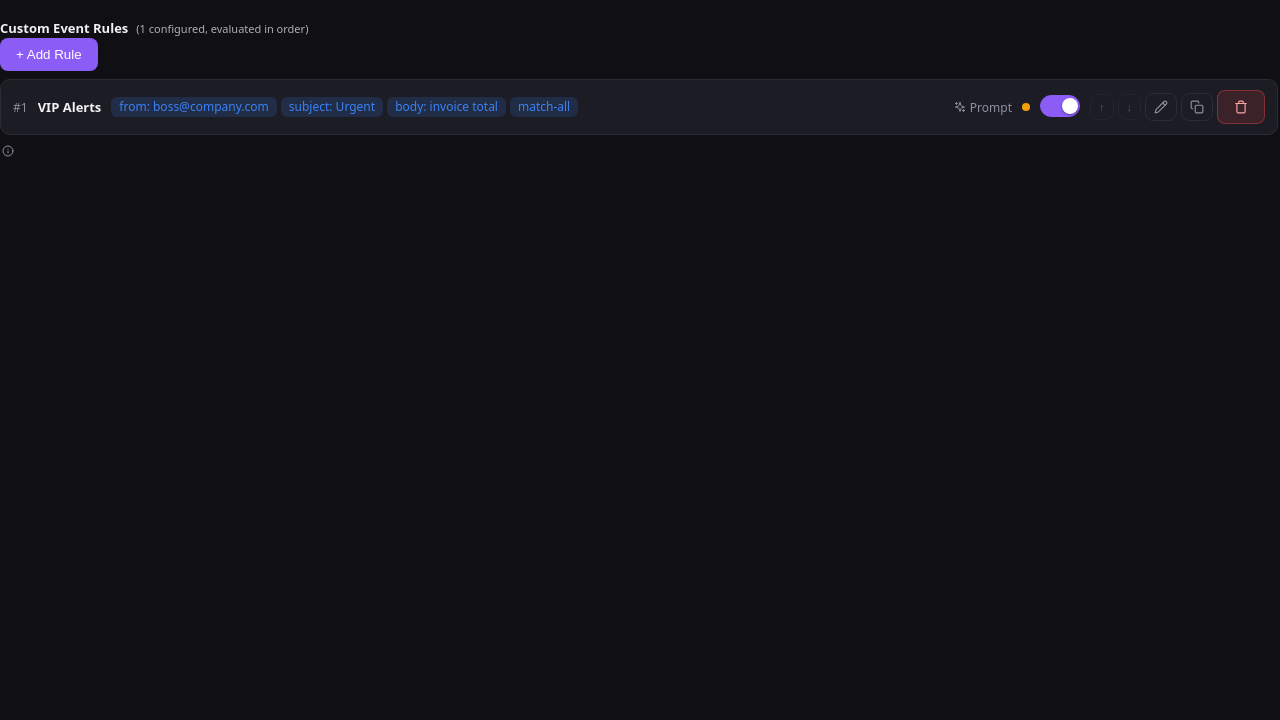
Test: EventRuleBuilder editor modal › blocks saving an empty prompt with a validation error
Click the button named "edit vip alerts" at (1161, 107), box [1145,93,1177,121]
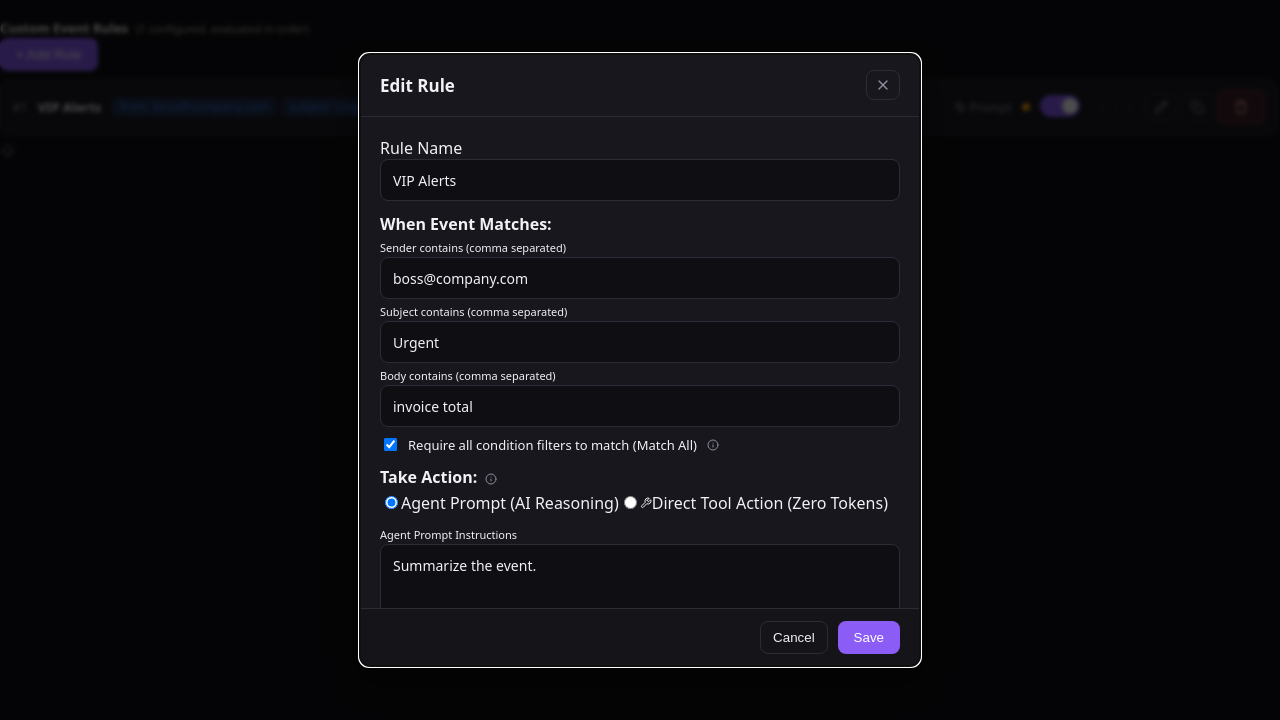
Now the heading "Edit Rule" is shown, box [380,74,455,96]
Clear the text box labelled "Agent Prompt Instructions" at (640, 584), box [380,544,900,624]
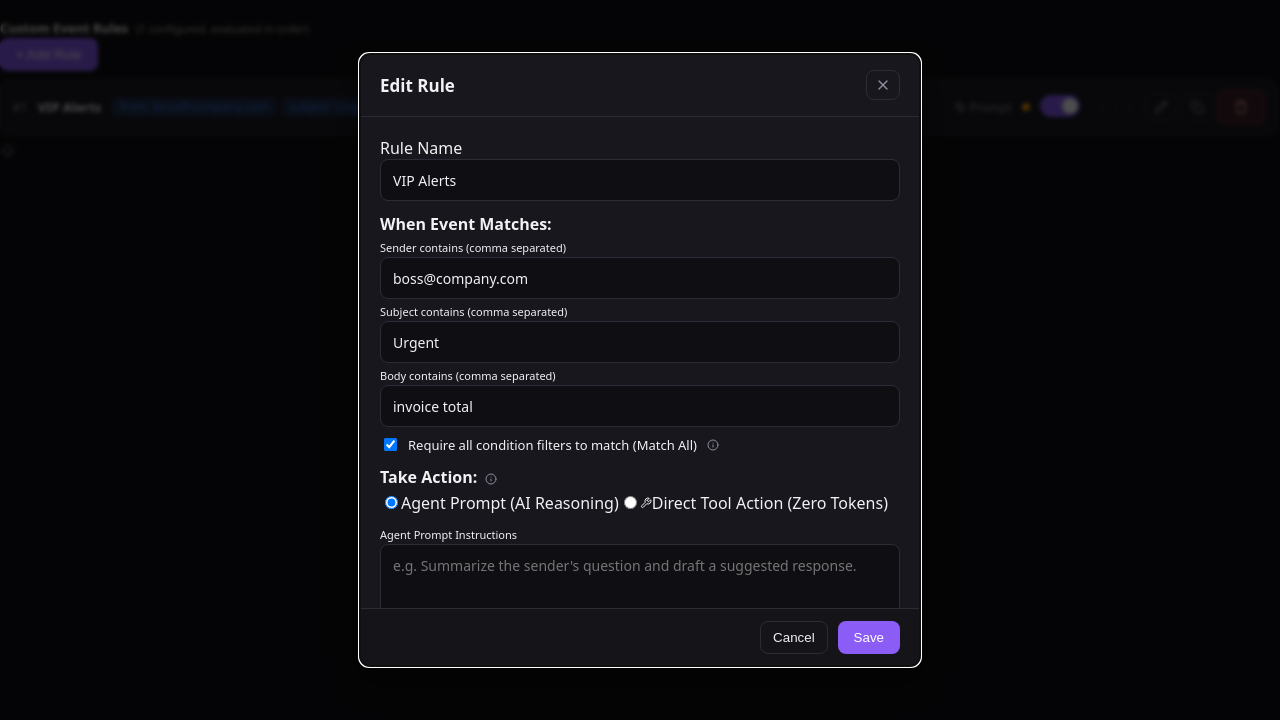
Click the button "Save" at (869, 638), box [838,621,900,654]
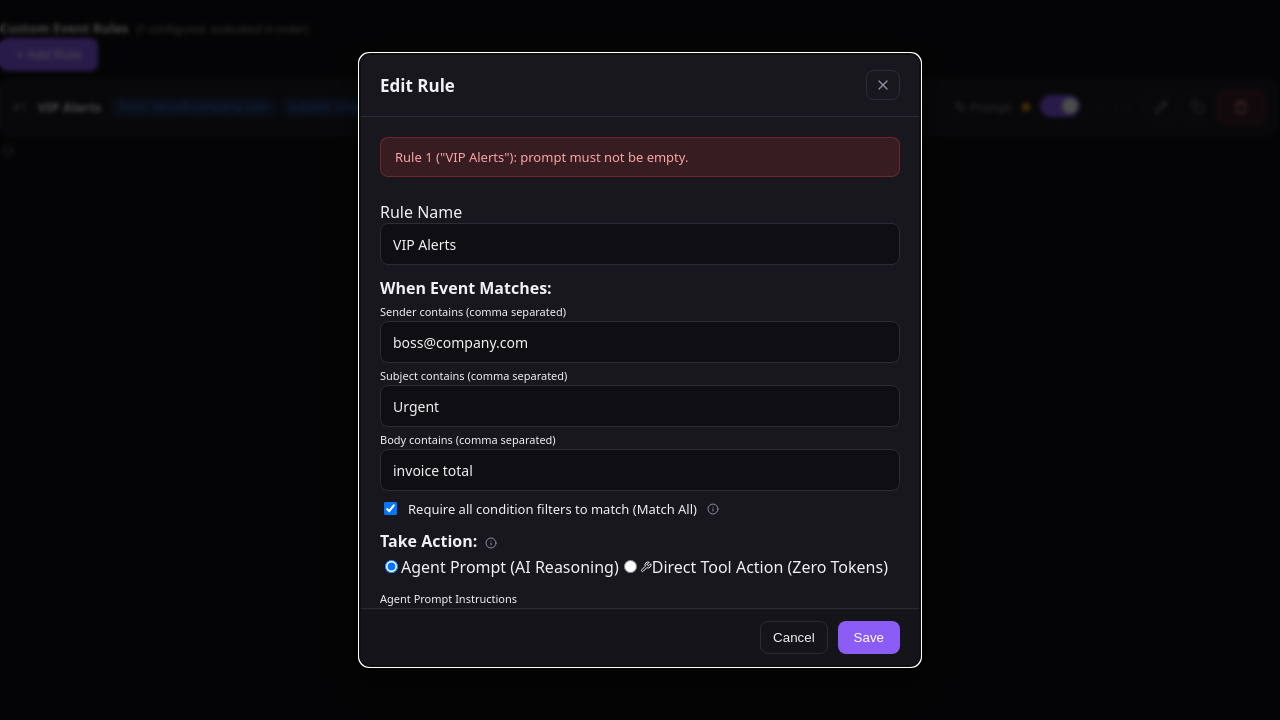
Now the text "Rule 1 (\"VIP Alerts\"): prompt must not be empty." is shown, box [380,137,900,177]
